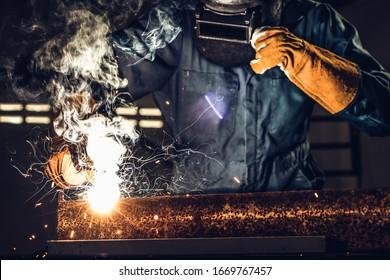gloves: (249, 24, 361, 117)
